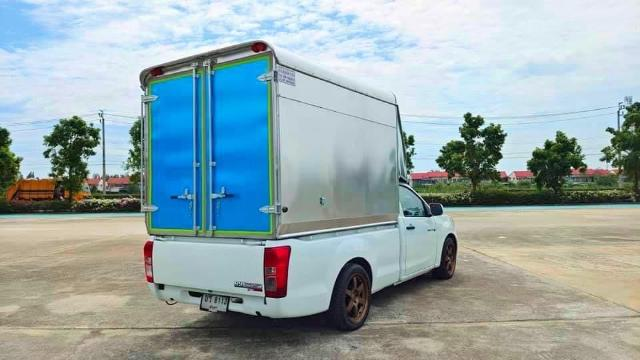pickup-truck: (121, 38, 482, 343)
